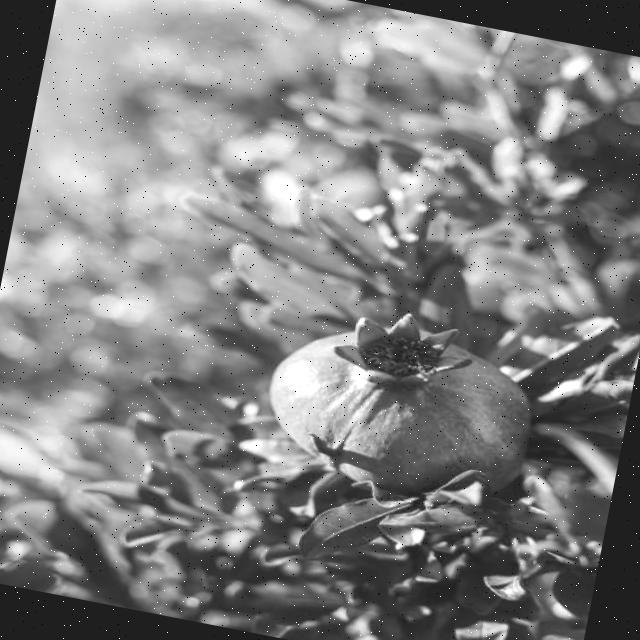Unripe: (255, 290, 546, 513)
